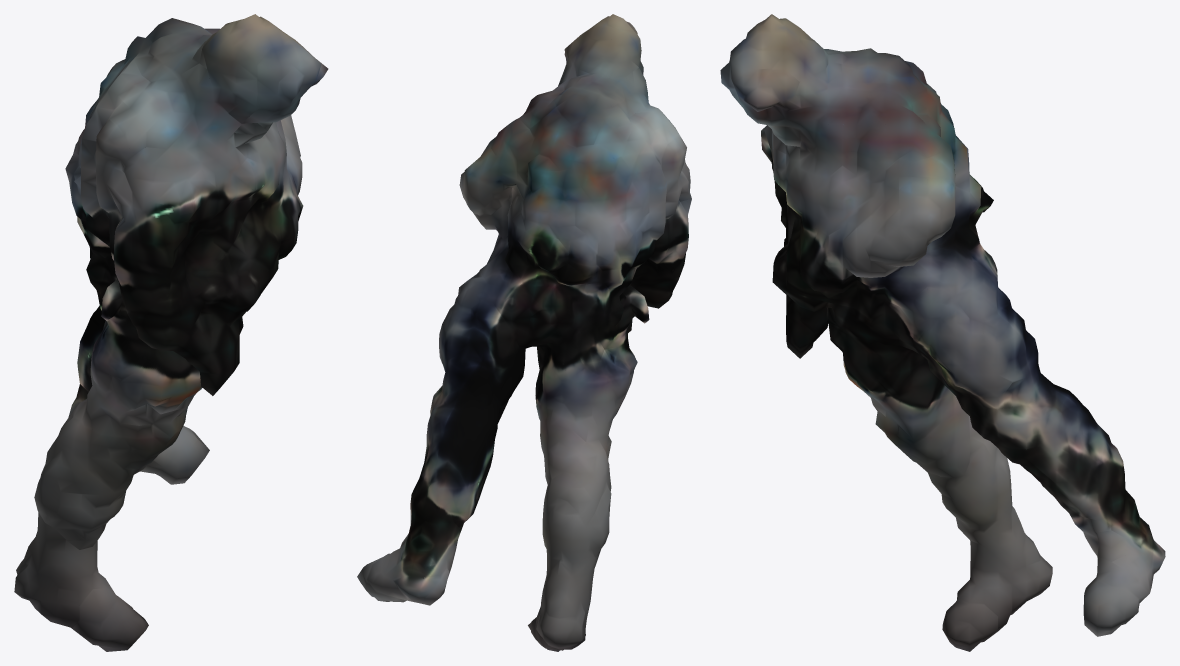
The model's file is scout-preview.glb.
3 renders of one model, left to right at view 1: azimuth 30°, elevation 25°; view 2: azimuth 150°, elevation 25°; view 3: azimuth 270°, elevation 25°, orthographic. The views are drawn at different scales.
Parts seen in each view (by area): view 1: mesh; view 2: mesh; view 3: mesh.
Boxes of the visible parts, left/top/right/bottom form: mesh: left=14, top=14, right=328, bottom=651; mesh: left=357, top=14, right=691, bottom=651; mesh: left=720, top=14, right=1165, bottom=651.
Bounding box in the file's own units: 0.3464 × 0.9227 × 0.5758.
1 material, 1 textured.
